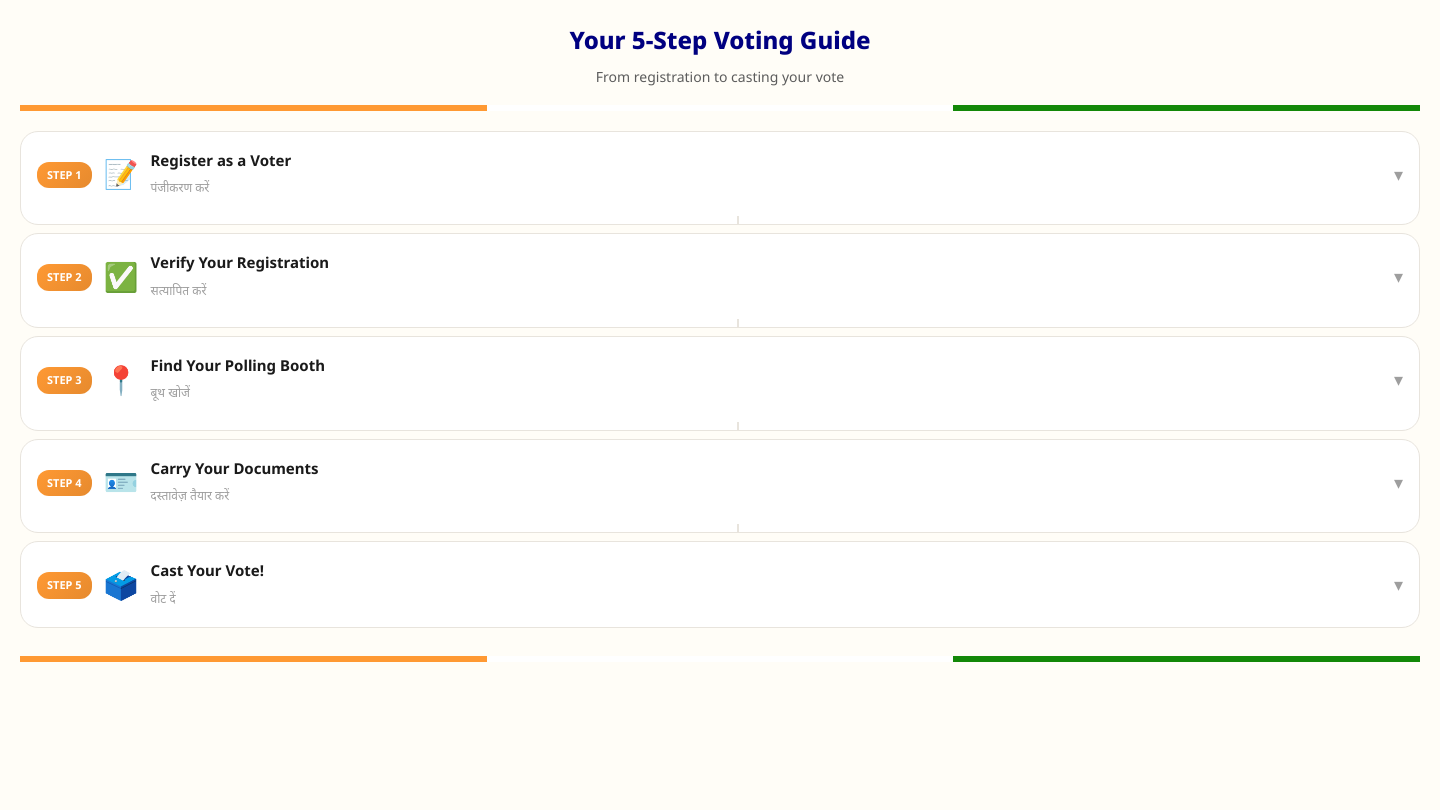
Test: Guide › expands step on click to show description
The width and height of the screenshot is (1440, 810).
Click the text "Register as a Voter". click: [720, 178]
box: [20,131,1420,225]
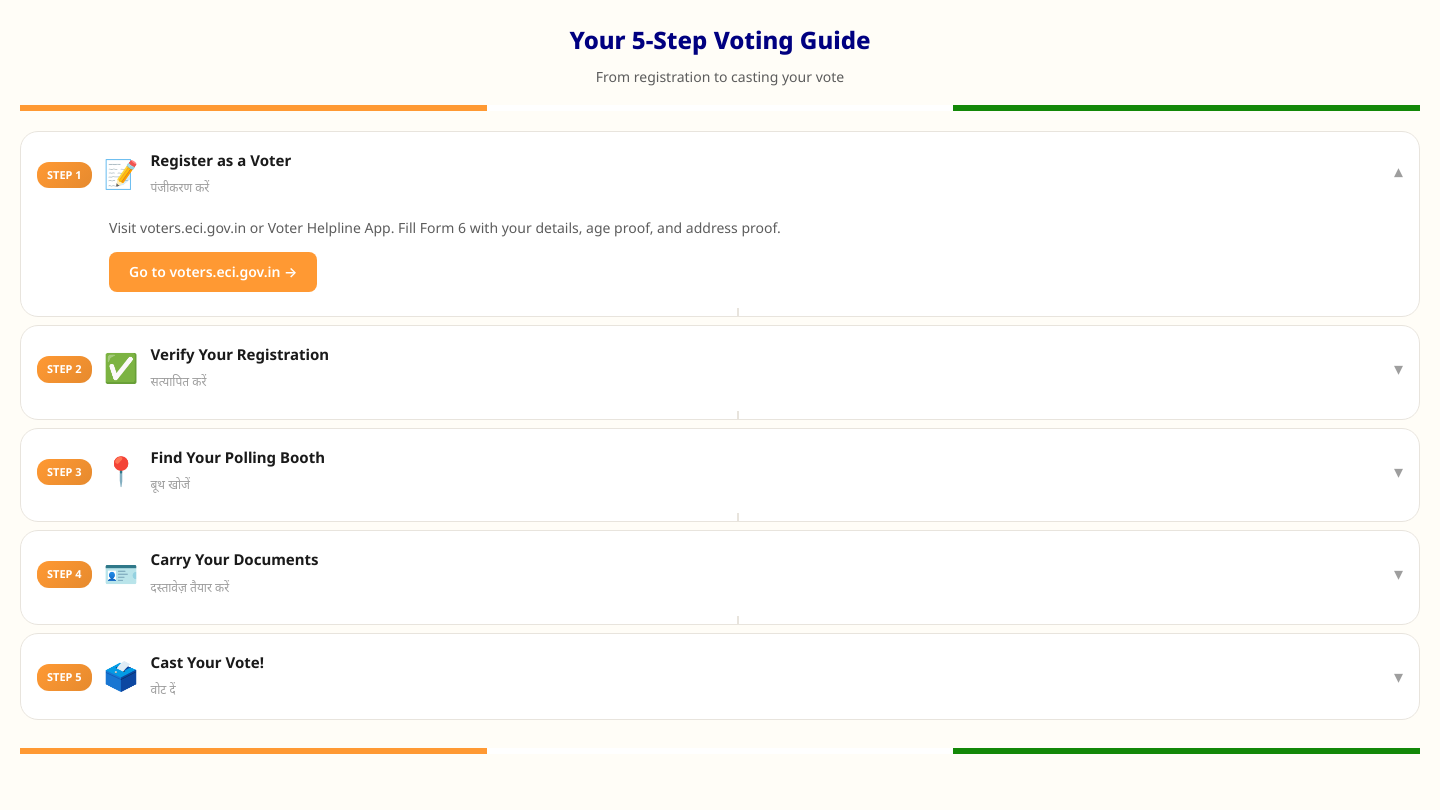
Result: the text "Visit voters.eci.gov.in" is shown at [109,218,781,237]
